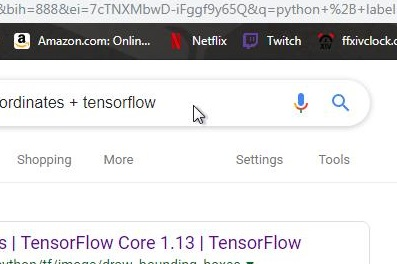cursor: (189, 102, 208, 127)
